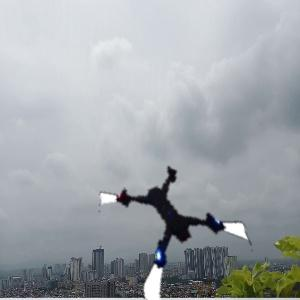drone: (110, 159, 250, 299)
